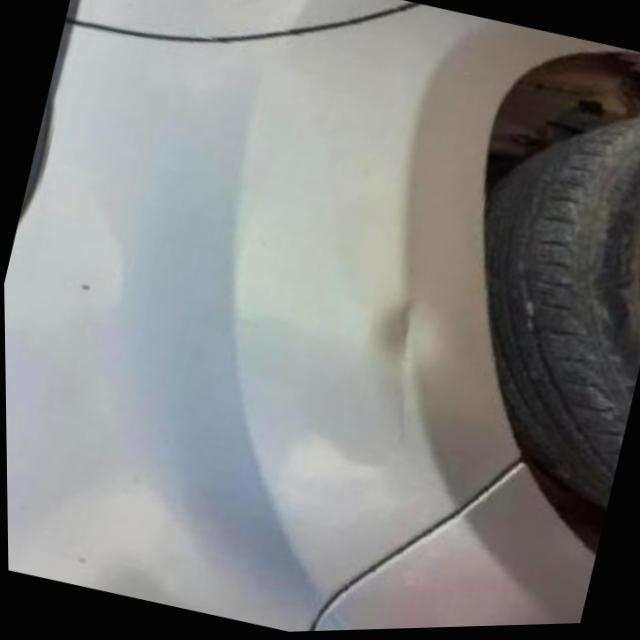Dent: (374, 293, 450, 377)
